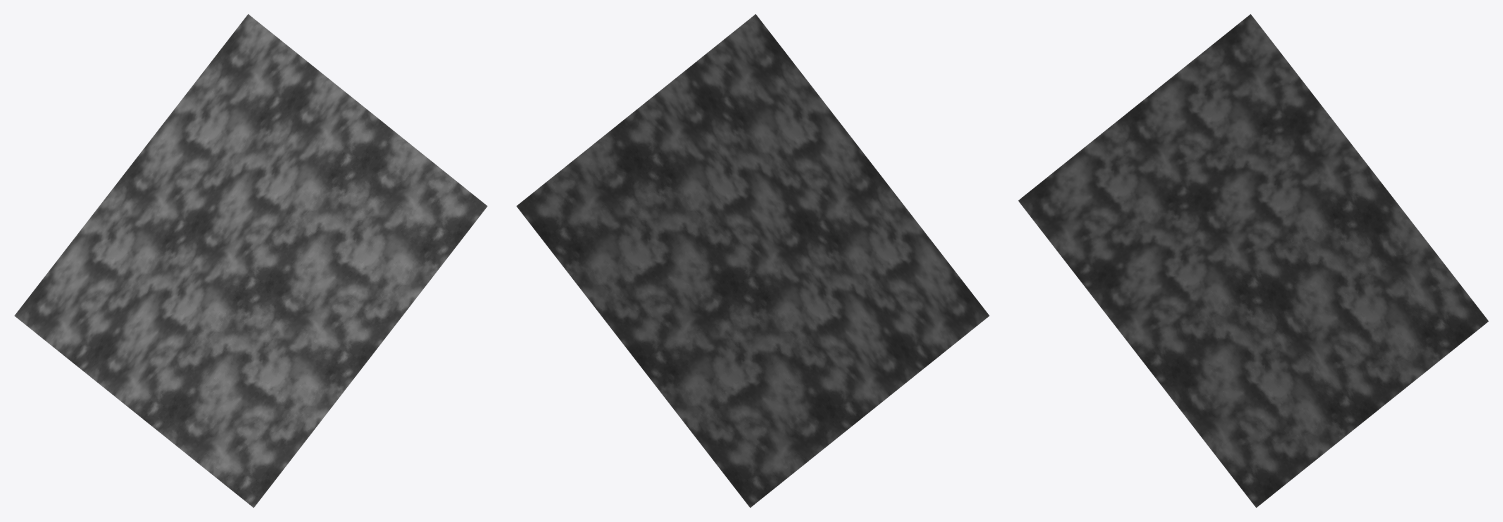
Rendered from cloud.glb.
3 renders of one model, left to right at view 1: azimuth 30°, elevation 25°; view 2: azimuth 150°, elevation 25°; view 3: azimuth 330°, elevation 25°, orthographic.
Parts seen in each view (by area): view 1: model_cloud; view 2: model_cloud; view 3: model_cloud.
Boxes of the visible parts, bbox=[...] form: model_cloud: bbox=[14, 14, 487, 507]; model_cloud: bbox=[516, 14, 989, 507]; model_cloud: bbox=[1018, 14, 1488, 507].
Bounding box in the file's own units: 3.61 × 3.61 × 0.
Materials: 1 (1 with a texture image).
